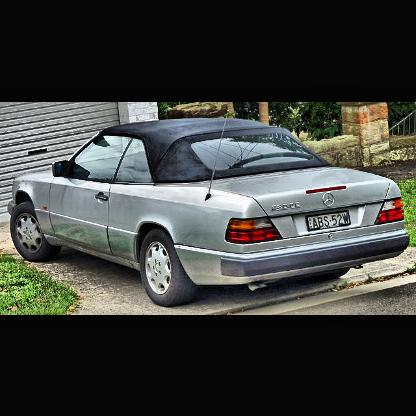Mercedes-Benz 300-Class Convertible 1993: (2, 112, 416, 309)
